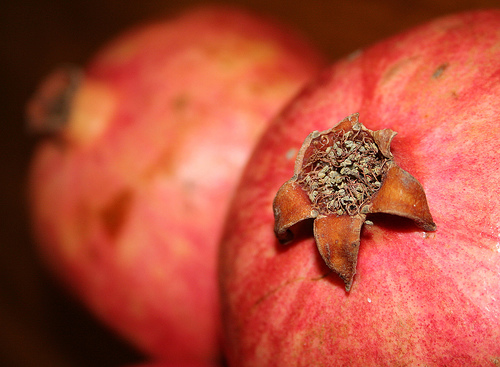pomogranate: (26, 16, 339, 366), (216, 10, 499, 365)
